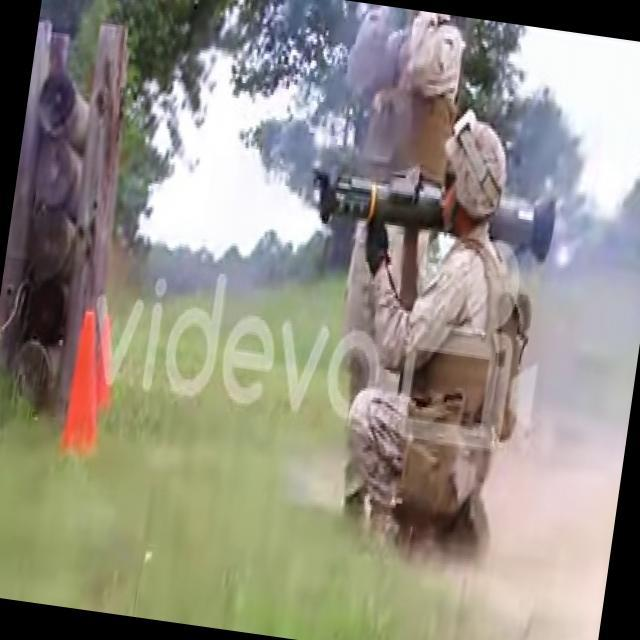rocket: (311, 168, 558, 265)
